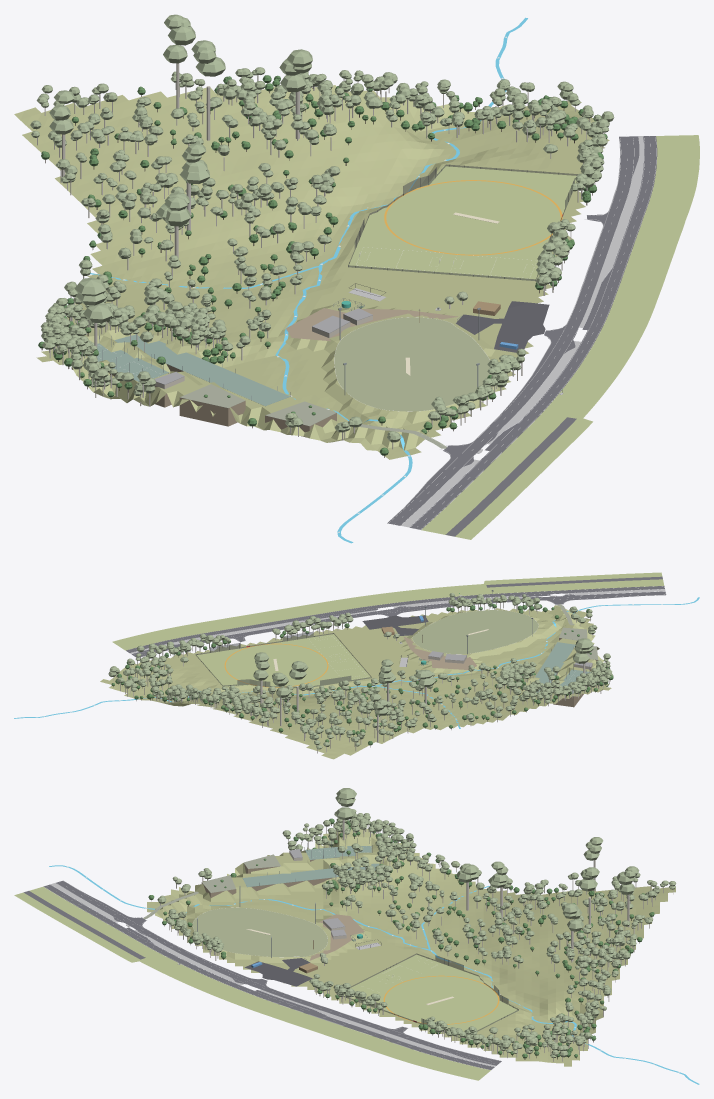
Rendered from KHFR_stage1_summer.glb.
3 views of the same model, one above another, from view 1: azimuth 30°, elevation 25°; view 2: azimuth 150°, elevation 25°; view 3: azimuth 270°, elevation 25° (orthographic). The views are drawn at different scales.
Visible parts, largest first — view 1: Reserve terrain, Bushland forest (euc_can), Road reserve (far verge), field N flatgrass, Bush planting zones (euc_can), Existing Ground 1 (worn turf), Swansea Rd NE-bound (surveyed both edges), Giant eucalypts (canopies), Swansea Rd SW-bound (2 lanes, smooth), Tennis precinct bush retained (euc_can), Bushland forest (wat_can), Median (separated) (+15 smaller); view 2: Reserve terrain, Bushland forest (euc_can), Road reserve (far verge), field N flatgrass, Bush planting zones (euc_can), Existing Ground 1 (worn turf), Giant eucalypts (canopies), Swansea Rd SW-bound (2 lanes, smooth), Tennis precinct bush retained (euc_can), Swansea Rd NE-bound (surveyed both edges), Bushland forest (wat_can), Median (separated) (+10 smaller); view 3: Reserve terrain, Bushland forest (euc_can), Road reserve (far verge), field N flatgrass, Bush planting zones (euc_can), Existing Ground 1 (worn turf), Swansea Rd NE-bound (surveyed both edges), Tennis precinct bush retained (euc_can), Giant eucalypts (canopies), Swansea Rd SW-bound (2 lanes, smooth), Bushland forest (wat_can), Median (separated) (+10 smaller).
Part boxes in pixels (left/top/right/bottom): Reserve terrain: left=14, top=85, right=609, bottom=459; Bushland forest (euc_can): left=30, top=71, right=400, bottom=442; Road reserve (far verge): left=421, top=135, right=699, bottom=539; field N flatgrass: left=348, top=166, right=576, bottom=281; Bush planting zones (euc_can): left=216, top=67, right=614, bottom=416; Existing Ground 1 (worn turf): left=334, top=317, right=490, bottom=411; Swansea Rd NE-bound (surveyed both edges): left=387, top=136, right=639, bottom=525; Giant eucalypts (canopies): left=49, top=14, right=312, bottom=323; Swansea Rd SW-bound (2 lanes, smooth): left=409, top=136, right=657, bottom=529; Tennis precinct bush retained (euc_can): left=40, top=296, right=233, bottom=387; Bushland forest (wat_can): left=41, top=83, right=388, bottom=455; Median (separated): left=400, top=136, right=644, bottom=527; Reserve terrain: left=100, top=605, right=611, bottom=759; Bushland forest (euc_can): left=198, top=606, right=611, bottom=749; Road reserve (far verge): left=112, top=572, right=664, bottom=650; field N flatgrass: left=196, top=634, right=371, bottom=687; Bush planting zones (euc_can): left=108, top=593, right=540, bottom=716; Existing Ground 1 (worn turf): left=412, top=610, right=538, bottom=653; Giant eucalypts (canopies): left=253, top=638, right=593, bottom=715; Swansea Rd SW-bound (2 lanes, smooth): left=126, top=586, right=664, bottom=652; Tennis precinct bush retained (euc_can): left=495, top=661, right=613, bottom=703; Swansea Rd NE-bound (surveyed both edges): left=131, top=591, right=666, bottom=657; Bushland forest (wat_can): left=230, top=609, right=603, bottom=745; Median (separated): left=130, top=589, right=665, bottom=653; Reserve terrain: left=147, top=824, right=675, bottom=1066; Bushland forest (euc_can): left=157, top=817, right=676, bottom=980; Road reserve (far verge): left=14, top=886, right=490, bottom=1080; field N flatgrass: left=343, top=954, right=519, bottom=1037; Bush planting zones (euc_can): left=166, top=909, right=637, bottom=1057; Existing Ground 1 (worn turf): left=192, top=908, right=327, bottom=957; Swansea Rd NE-bound (surveyed both edges): left=56, top=880, right=501, bottom=1065; Tennis precinct bush retained (euc_can): left=295, top=809, right=416, bottom=888; Giant eucalypts (canopies): left=335, top=788, right=639, bottom=931; Swansea Rd SW-bound (2 lanes, smooth): left=43, top=884, right=494, bottom=1069; Bushland forest (wat_can): left=148, top=820, right=654, bottom=979; Median (separated): left=50, top=883, right=495, bottom=1066.
Size of the model in its own units: 495 by 86.34 by 599.
